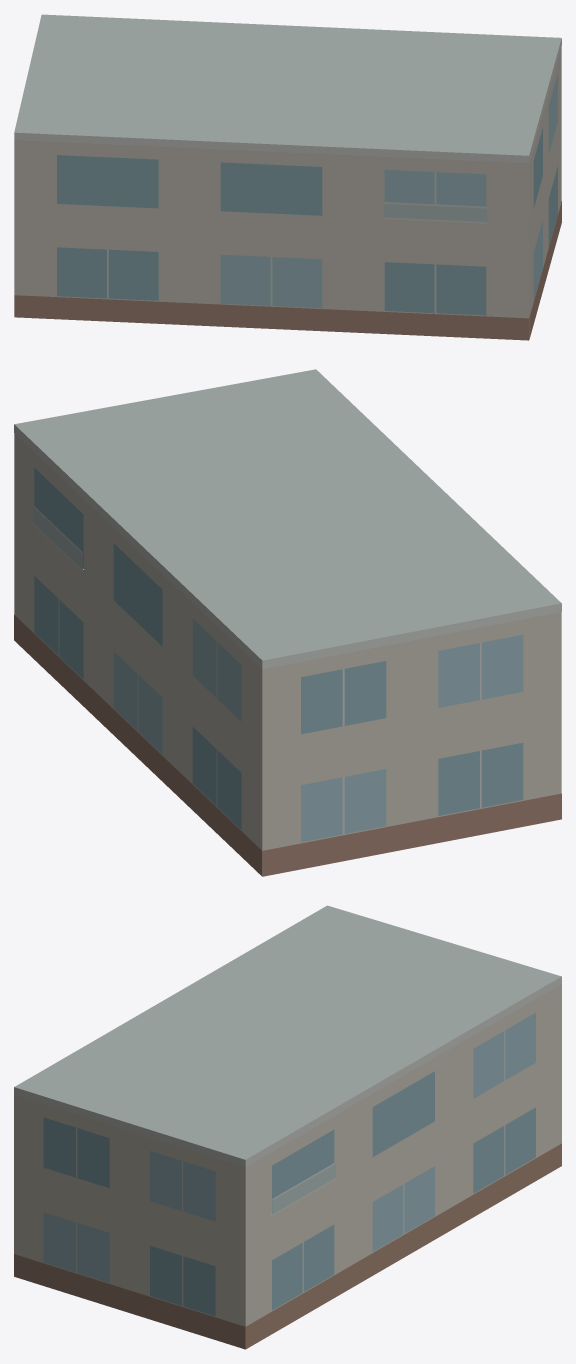
Rendered from survey-upis-32637492.glb.
The picture shows the model from 3 angles, top to bottom: view 1: azimuth 30°, elevation 25°; view 2: azimuth 150°, elevation 25°; view 3: azimuth 270°, elevation 25°; orthographic projection. The views are drawn at different scales.
Parts seen in each view (by area): view 1: survey-upis-32637492.tmp; view 2: survey-upis-32637492.tmp; view 3: survey-upis-32637492.tmp.
Boxes of the visible parts, x1,y1,x2,y2 form: survey-upis-32637492.tmp: [14, 14, 561, 340]; survey-upis-32637492.tmp: [14, 369, 561, 876]; survey-upis-32637492.tmp: [14, 905, 561, 1349].
Size of the model in its own units: 17.57 by 6.1 by 15.98.
